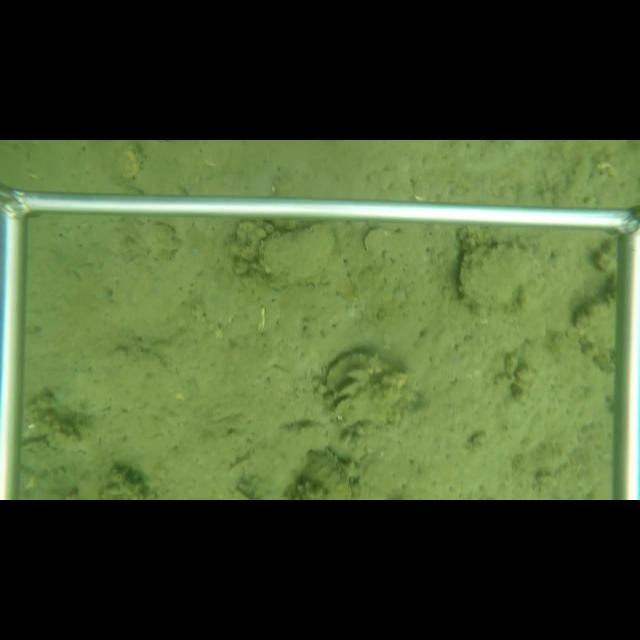Oyster-Closed: (455, 239, 548, 312), (254, 222, 339, 282), (323, 348, 412, 396), (299, 447, 355, 499), (360, 227, 393, 258)
